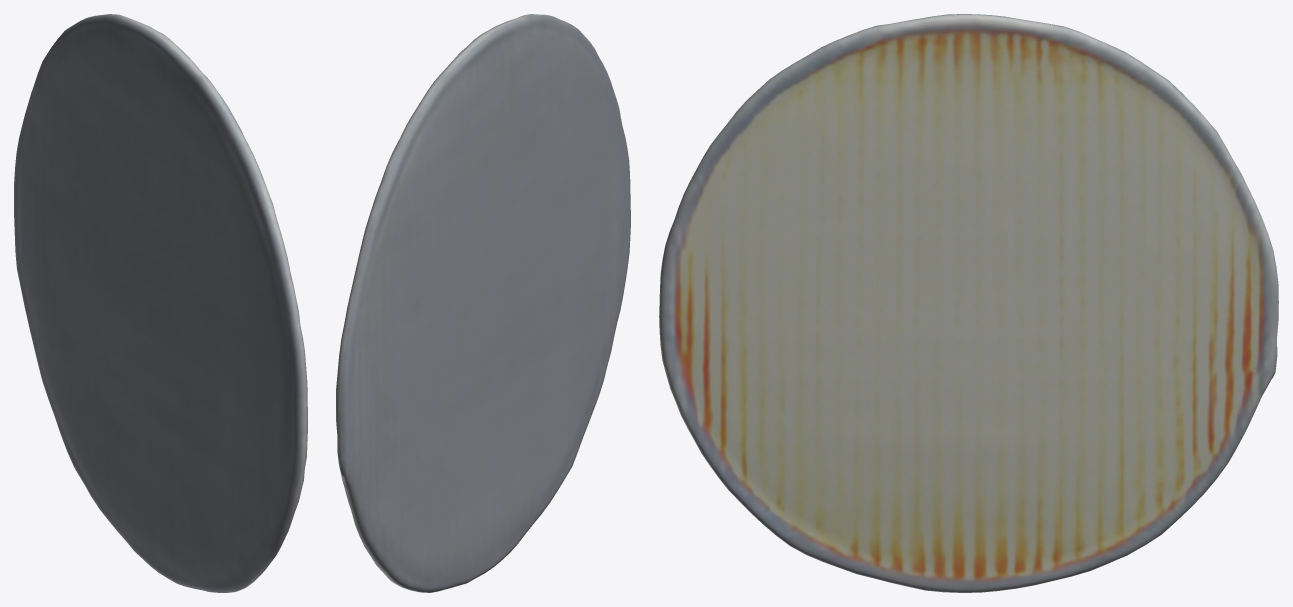
File: aa3328691f4a_hospital_reflectors.fbx
The picture shows the model from 3 angles, left to right: view 1: azimuth 30°, elevation 25°; view 2: azimuth 150°, elevation 25°; view 3: azimuth 270°, elevation 25°; orthographic projection. The views are drawn at different scales.
Visible parts, largest first — view 1: mesh; view 2: mesh; view 3: mesh.
Part boxes in pixels (left/top/right/bottom): mesh: left=14, top=14, right=307, bottom=592; mesh: left=336, top=14, right=630, bottom=592; mesh: left=659, top=14, right=1278, bottom=592.
Size of the model in its own units: 4.01 by 99.93 by 97.45.
